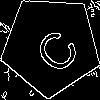C: (25, 20, 83, 77)
